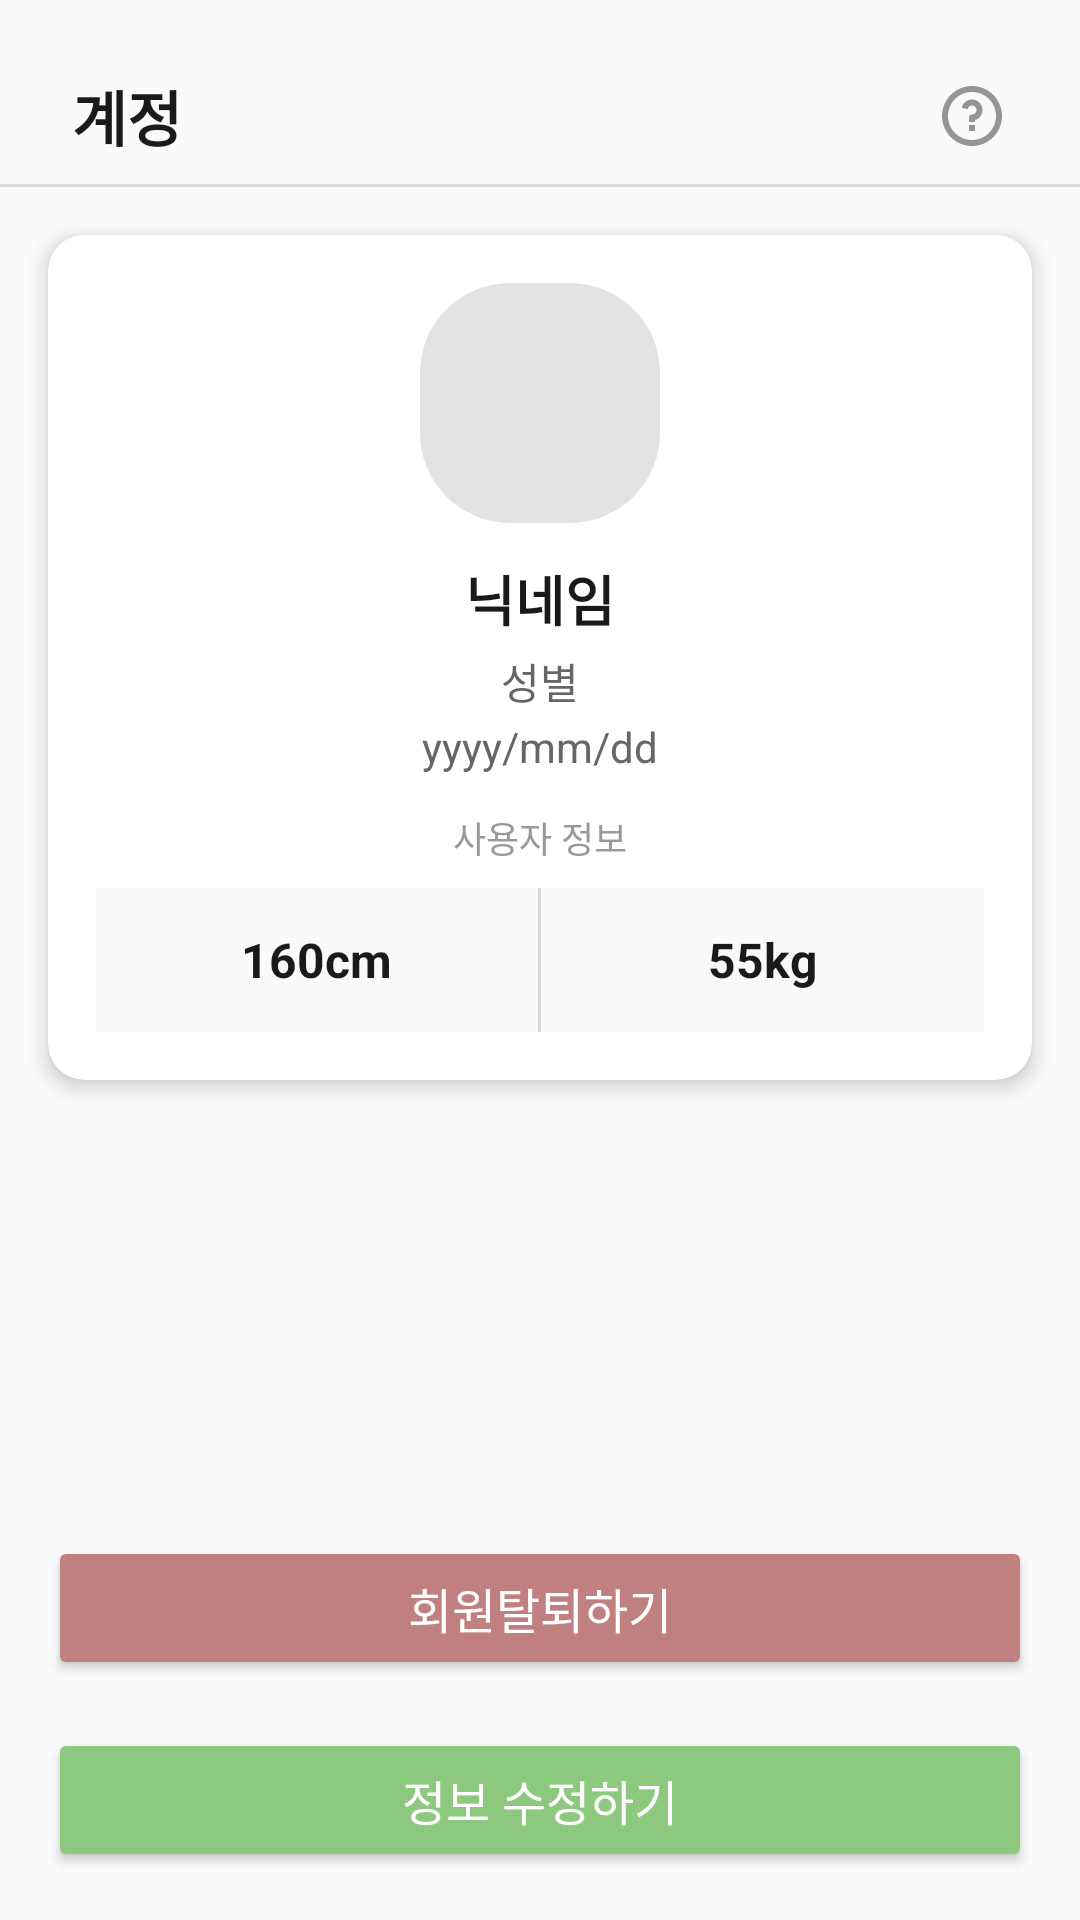

Screen size 1080 × 1920. Icon name, then its box in pixels as detection(x1, y1, x2, y2):
ri question line: detection(942, 86, 1002, 146)
